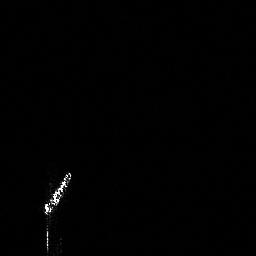ship: (39, 168, 75, 219)
